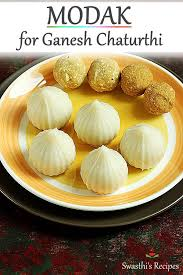modak: (64, 90, 122, 147), (23, 80, 82, 133), (27, 121, 77, 178), (84, 147, 131, 195), (123, 122, 164, 170)
